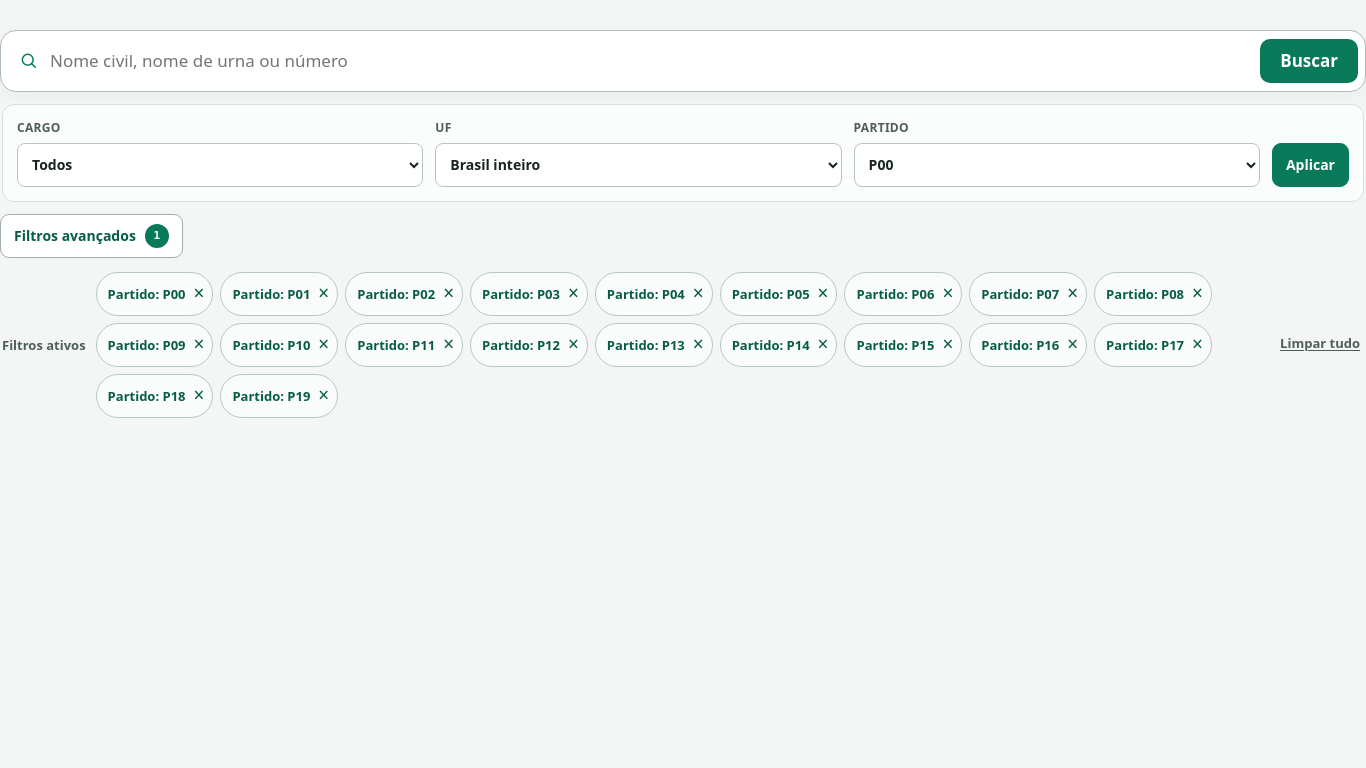
candidate catalog › caps every repeated group at twenty choices
What coordinates should you click on to do the following:
click the button "Filtros avançados 1"
I would click on:
 (91, 236)
Its box is [0,214,183,258].
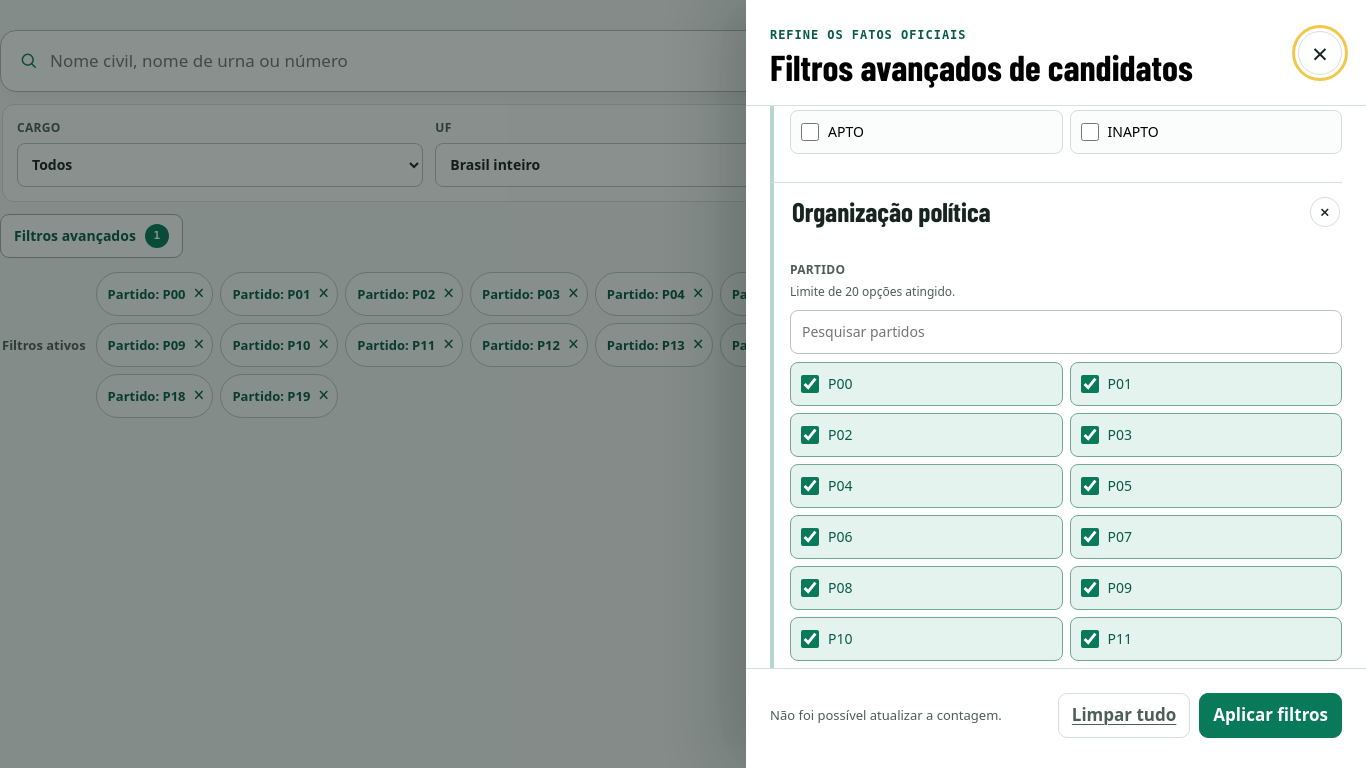
Expected: the checkbox labelled "P00" is enabled, [801,375,819,393]
